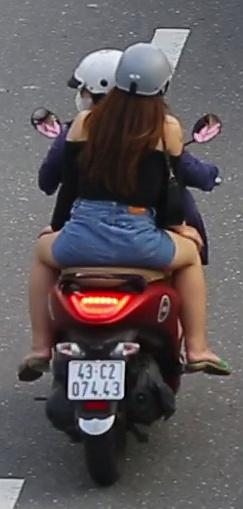LP: (67, 357, 128, 404)
helmet: (115, 39, 179, 102), (69, 45, 122, 111)
